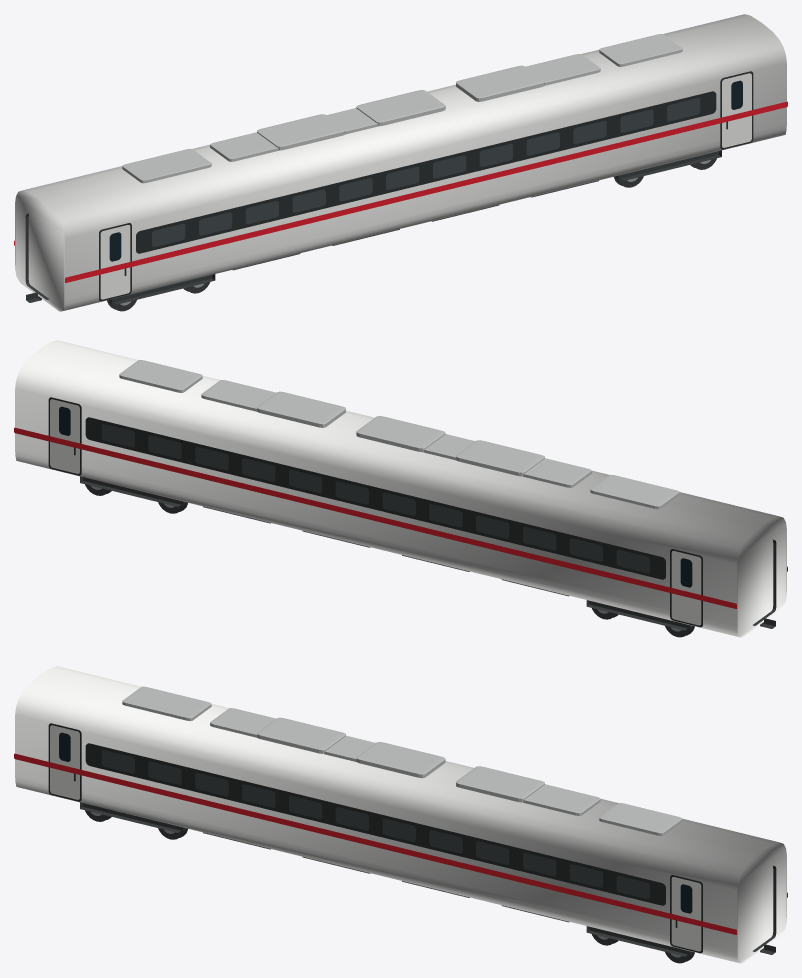
The model's file is ice3-br403-v2-unified-second-converter-403-2.glb.
3 renders of one model, top to bottom at view 1: azimuth 30°, elevation 25°; view 2: azimuth 150°, elevation 25°; view 3: azimuth 330°, elevation 25°, orthographic.
Parts seen in each view (by area): view 1: ice3_continuity_shared_transformer_shell.001, ice3_unified_second_converter_403_2_continuous_black_glazing, ice3_unified_second_converter_403_2_shared_red_body_stripe_-, ice3_v2_second_converter_403_2_roof_power_cabinet_2, ice3_v2_second_converter_403_2_roof_power_cabinet_0, ice3_v2_second_converter_403_2_roof_power_cabinet_1, ice3_v2_second_converter_403_2_roof_fairing_0, ice3_unified_second_converter_403_2_rear_door_leaf_-1, ice3_v2_second_converter_403_2_roof_fairing_4, ice3_unified_second_converter_403_2_front_door_leaf_-1, ice3_v2_second_converter_403_2_roof_fairing_3, ice3_v2_second_converter_403_2_roof_fairing_1 (+15 smaller); view 2: ice3_continuity_shared_transformer_shell.001, ice3_unified_second_converter_403_2_continuous_black_glazing, ice3_unified_second_converter_403_2_shared_red_body_stripe_1, ice3_v2_second_converter_403_2_roof_power_cabinet_2, ice3_v2_second_converter_403_2_roof_power_cabinet_0, ice3_v2_second_converter_403_2_roof_power_cabinet_1, ice3_v2_second_converter_403_2_roof_fairing_0, ice3_unified_second_converter_403_2_rear_door_leaf_1, ice3_v2_second_converter_403_2_roof_fairing_4, ice3_unified_second_converter_403_2_front_door_leaf_1, ice3_v2_second_converter_403_2_roof_fairing_3, ice3_v2_second_converter_403_2_roof_fairing_1 (+15 smaller); view 3: ice3_continuity_shared_transformer_shell.001, ice3_unified_second_converter_403_2_continuous_black_glazing, ice3_unified_second_converter_403_2_shared_red_body_stripe_-, ice3_v2_second_converter_403_2_roof_power_cabinet_1, ice3_v2_second_converter_403_2_roof_power_cabinet_2, ice3_v2_second_converter_403_2_roof_power_cabinet_0, ice3_v2_second_converter_403_2_roof_fairing_0, ice3_unified_second_converter_403_2_front_door_leaf_-1, ice3_v2_second_converter_403_2_roof_fairing_4, ice3_unified_second_converter_403_2_rear_door_leaf_-1, ice3_v2_second_converter_403_2_roof_fairing_3, ice3_v2_second_converter_403_2_roof_fairing_1 (+15 smaller).
Boxes of the visible parts, x1=… form: ice3_continuity_shared_transformer_shell.001: x1=15, y1=14, x2=786, y2=311; ice3_unified_second_converter_403_2_continuous_black_glazing: x1=136, y1=91, x2=716, y2=253; ice3_unified_second_converter_403_2_shared_red_body_stripe_-: x1=65, y1=101, x2=787, y2=282; ice3_v2_second_converter_403_2_roof_power_cabinet_2: x1=456, y1=65, x2=544, y2=101; ice3_v2_second_converter_403_2_roof_power_cabinet_0: x1=257, y1=114, x2=345, y2=150; ice3_v2_second_converter_403_2_roof_power_cabinet_1: x1=356, y1=90, x2=445, y2=126; ice3_v2_second_converter_403_2_roof_fairing_0: x1=122, y1=148, x2=211, y2=183; ice3_unified_second_converter_403_2_rear_door_leaf_-1: x1=100, y1=225, x2=130, y2=299; ice3_v2_second_converter_403_2_roof_fairing_4: x1=599, y1=34, x2=682, y2=66; ice3_unified_second_converter_403_2_front_door_leaf_-1: x1=722, y1=73, x2=751, y2=147; ice3_v2_second_converter_403_2_roof_fairing_3: x1=526, y1=54, x2=600, y2=85; ice3_v2_second_converter_403_2_roof_fairing_1: x1=210, y1=132, x2=279, y2=161; ice3_continuity_shared_transformer_shell.001: x1=15, y1=340, x2=786, y2=637; ice3_unified_second_converter_403_2_continuous_black_glazing: x1=85, y1=417, x2=665, y2=579; ice3_unified_second_converter_403_2_shared_red_body_stripe_1: x1=14, y1=427, x2=736, y2=608; ice3_v2_second_converter_403_2_roof_power_cabinet_2: x1=257, y1=391, x2=345, y2=427; ice3_v2_second_converter_403_2_roof_power_cabinet_0: x1=456, y1=440, x2=544, y2=476; ice3_v2_second_converter_403_2_roof_power_cabinet_1: x1=356, y1=416, x2=445, y2=452; ice3_v2_second_converter_403_2_roof_fairing_0: x1=590, y1=474, x2=679, y2=509; ice3_unified_second_converter_403_2_rear_door_leaf_1: x1=671, y1=551, x2=701, y2=625; ice3_v2_second_converter_403_2_roof_fairing_4: x1=119, y1=360, x2=202, y2=392; ice3_unified_second_converter_403_2_front_door_leaf_1: x1=50, y1=399, x2=79, y2=473; ice3_v2_second_converter_403_2_roof_fairing_3: x1=201, y1=380, x2=275, y2=411; ice3_v2_second_converter_403_2_roof_fairing_1: x1=522, y1=458, x2=591, y2=487; ice3_continuity_shared_transformer_shell.001: x1=15, y1=666, x2=786, y2=963; ice3_unified_second_converter_403_2_continuous_black_glazing: x1=85, y1=743, x2=665, y2=905; ice3_unified_second_converter_403_2_shared_red_body_stripe_-: x1=14, y1=753, x2=736, y2=934; ice3_v2_second_converter_403_2_roof_power_cabinet_1: x1=356, y1=742, x2=445, y2=778; ice3_v2_second_converter_403_2_roof_power_cabinet_2: x1=456, y1=766, x2=544, y2=802; ice3_v2_second_converter_403_2_roof_power_cabinet_0: x1=257, y1=717, x2=345, y2=753; ice3_v2_second_converter_403_2_roof_fairing_0: x1=122, y1=686, x2=211, y2=721; ice3_unified_second_converter_403_2_front_door_leaf_-1: x1=671, y1=877, x2=701, y2=951; ice3_v2_second_converter_403_2_roof_fairing_4: x1=599, y1=803, x2=682, y2=835; ice3_unified_second_converter_403_2_rear_door_leaf_-1: x1=50, y1=725, x2=79, y2=799; ice3_v2_second_converter_403_2_roof_fairing_3: x1=522, y1=784, x2=600, y2=815; ice3_v2_second_converter_403_2_roof_fairing_1: x1=210, y1=708, x2=275, y2=737.
Bounding box in the file's own units: 25.5 × 4.09 × 3.01.
